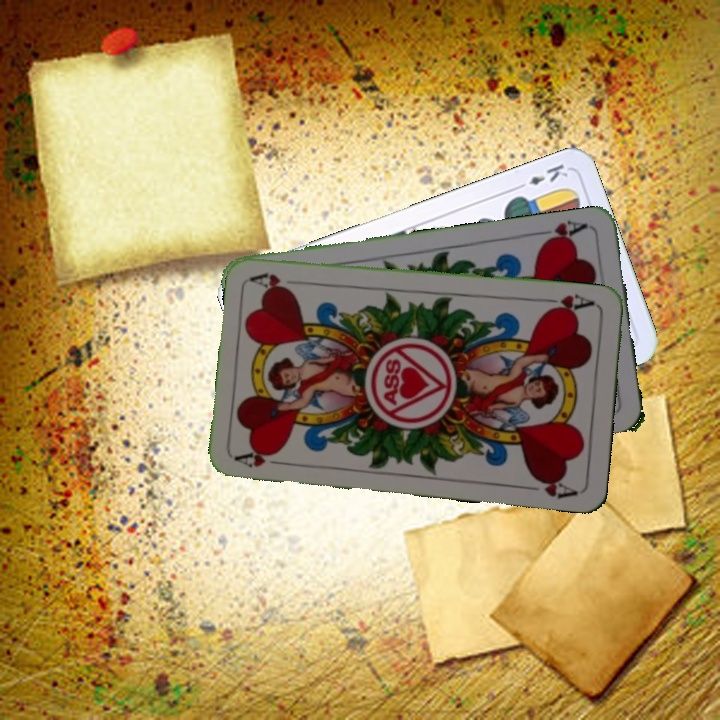EK: (512, 159, 571, 192)
HA: (532, 216, 591, 248), (540, 289, 597, 316), (232, 444, 291, 470)
